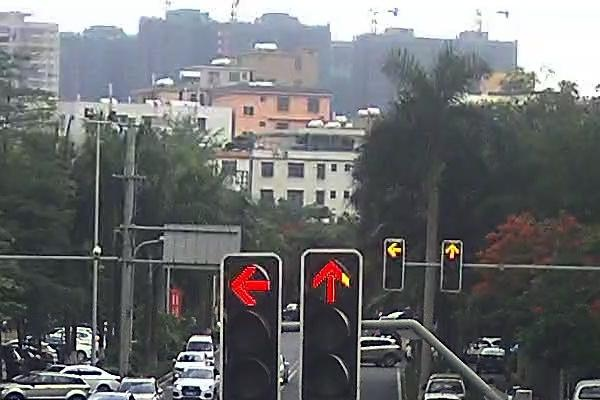redleft: (223, 257, 279, 307), (385, 238, 403, 258)
redstraight: (301, 252, 360, 306), (443, 240, 463, 261)
